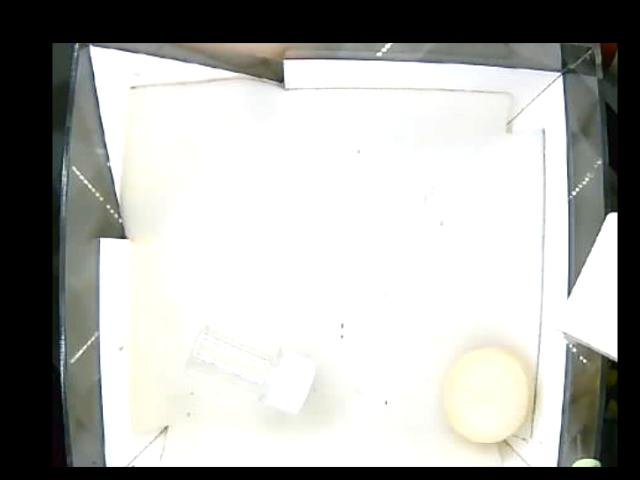Bottle: (188, 320, 313, 409)
Mooli: (439, 349, 534, 445)
